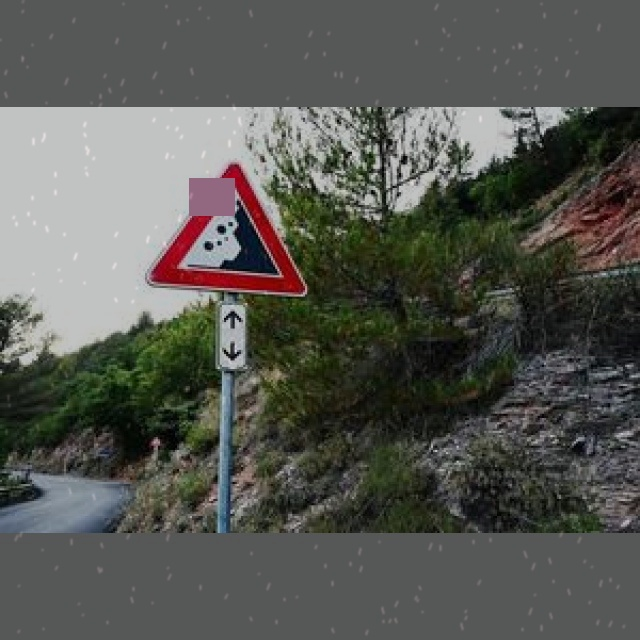Falling_Rocks: (139, 164, 314, 295)
